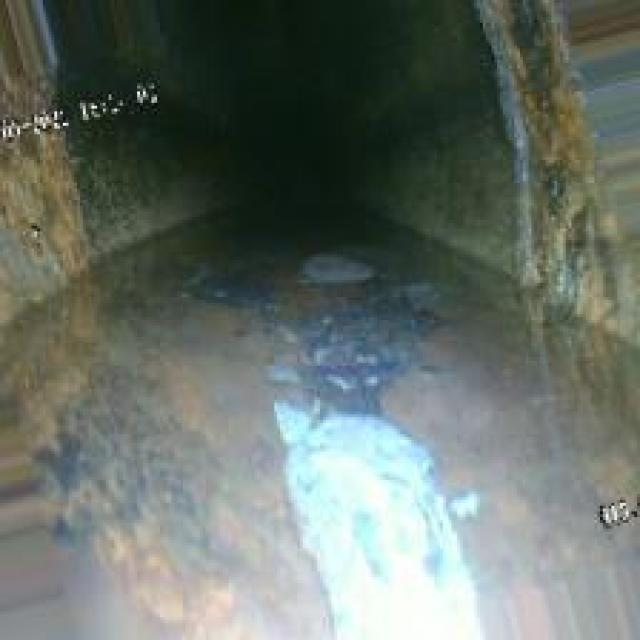stone: (277, 294, 446, 514)
